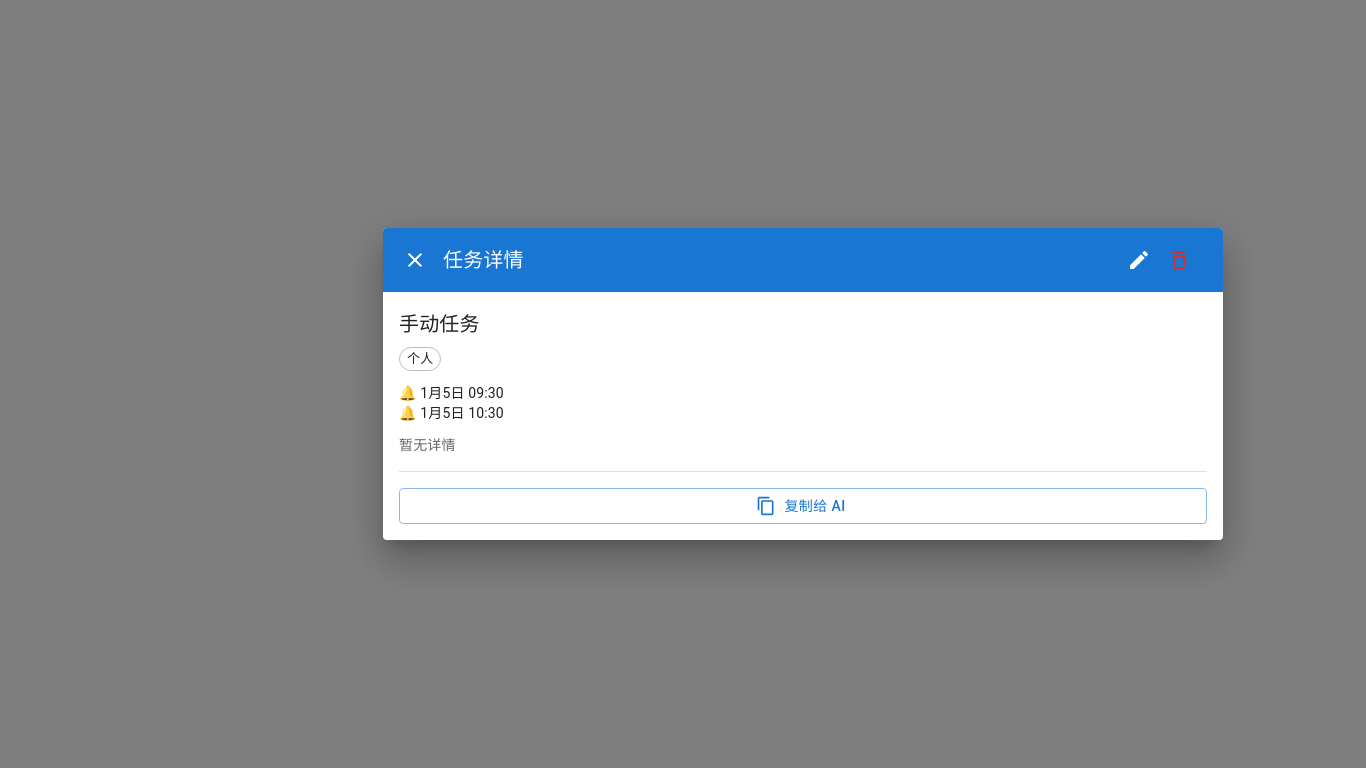
Test: ItemDialog 把现有提醒带进编辑器 › 6. 带 2 个提醒的条目点「编辑」：编辑器里能看到那 2 个提醒（行数与 value）
What coordinates should you click on to do the following:
click the button named "编辑"
I would click on:
 (1139, 260)
Its box is 1119,240 -> 1159,280.
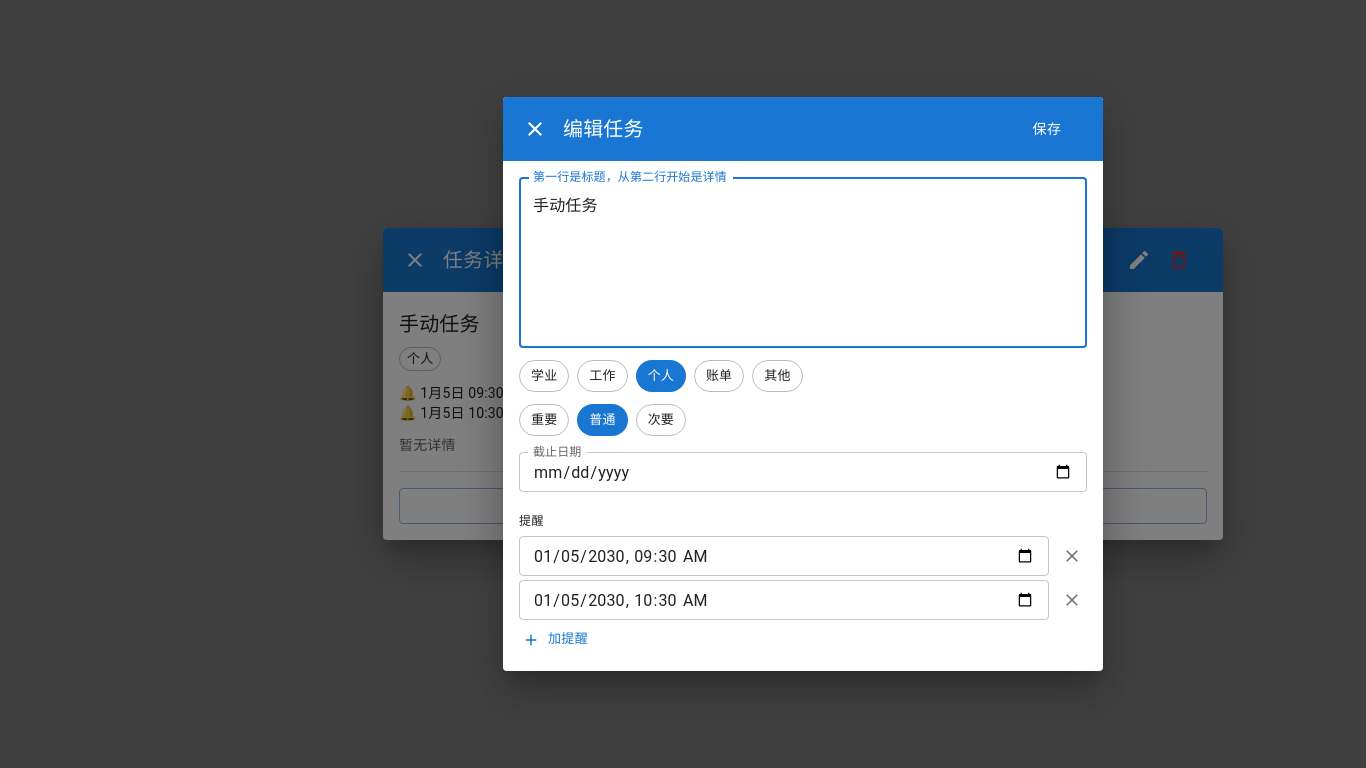
Now the text box named "任务内容" is shown, box 533,194 -> 1073,332
Now the 1st field holds "2030-01-05T09:30", box 519,536 -> 1049,576
Now the 2nd field holds "2030-01-05T10:30", box 519,580 -> 1049,620
